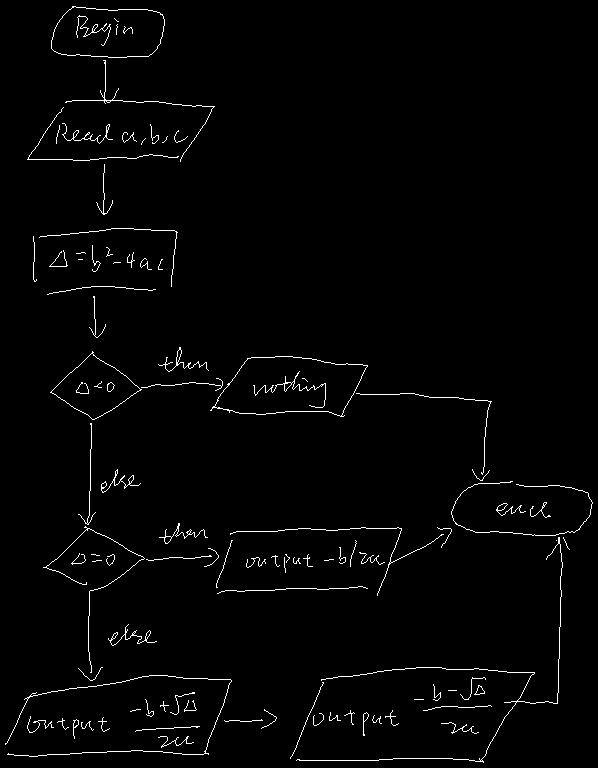arrow: (356, 393, 491, 480), (504, 537, 569, 703), (388, 527, 451, 564), (78, 591, 102, 680), (78, 423, 95, 524), (146, 548, 218, 566), (224, 709, 276, 728), (141, 378, 222, 390), (96, 164, 112, 214), (100, 60, 118, 103), (89, 296, 105, 337)
data: (290, 667, 534, 762), (5, 675, 231, 756), (216, 527, 401, 595), (27, 100, 214, 161), (210, 356, 367, 416)
decision: (43, 526, 144, 590), (50, 351, 141, 419)
process: (33, 228, 177, 294)
terminator: (451, 481, 592, 535), (51, 6, 164, 57)
text: (313, 677, 491, 735), (27, 692, 199, 747), (246, 540, 384, 572), (49, 245, 162, 271), (56, 123, 187, 144), (253, 371, 325, 407), (76, 15, 132, 45), (158, 347, 208, 371), (108, 624, 156, 645), (159, 523, 207, 543), (101, 469, 140, 492), (496, 502, 550, 517), (71, 553, 114, 565), (76, 381, 114, 393)
